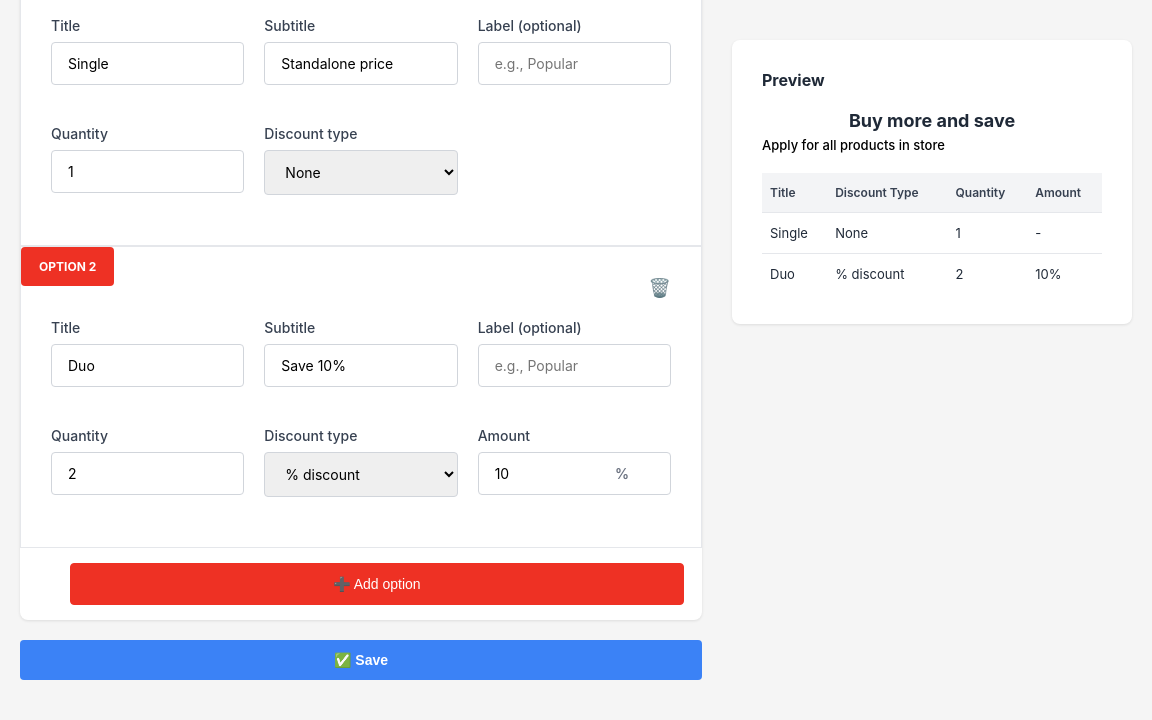
Scenario: VolumeDiscountForm Component › Form Validation › shows error when amount is required but empty
(page scrolled)
Expected: the 2nd dropdown shows "% discount", [264,452,458,497]
Clear the 3rd number field with placeholder "10" at (574, 474), box [478,452,671,495]
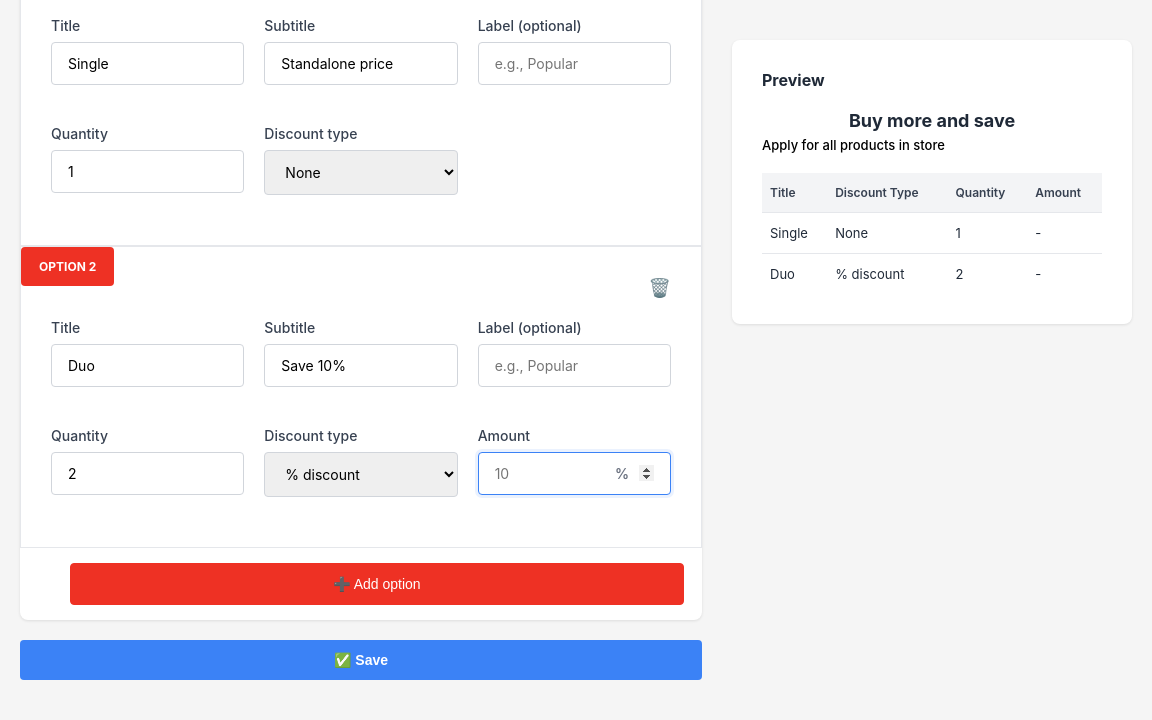
Click the button "✅ Save" at (361, 660), box [20,640,702,680]
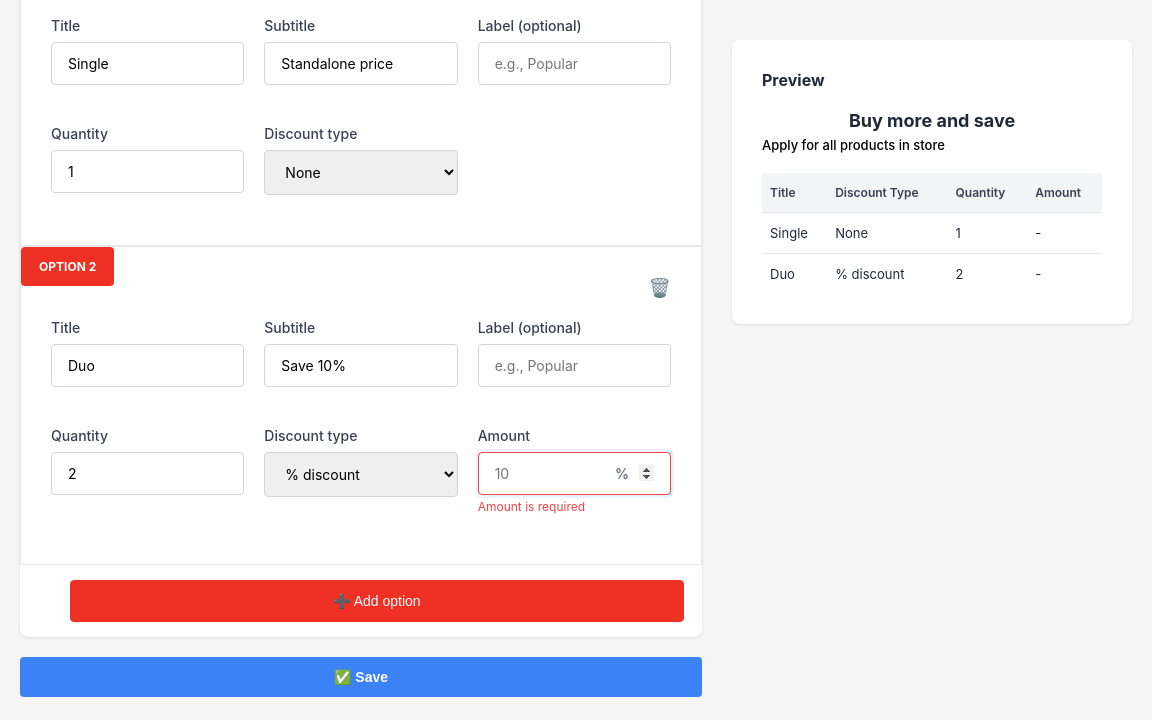
Now the text "Amount is required" is shown, box [478,499,585,514]
